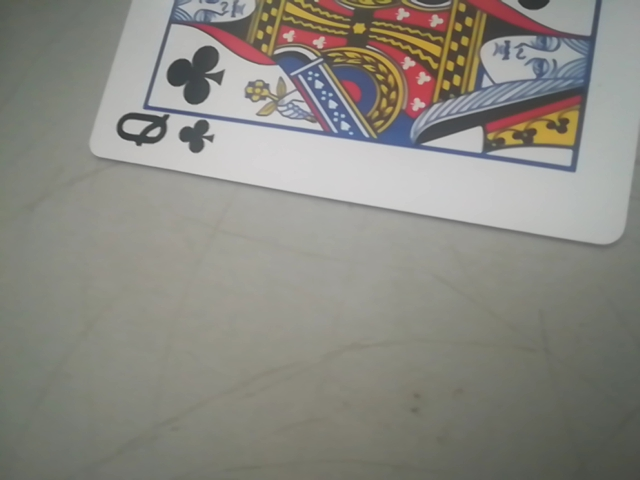mh q: (87, 0, 640, 250)
